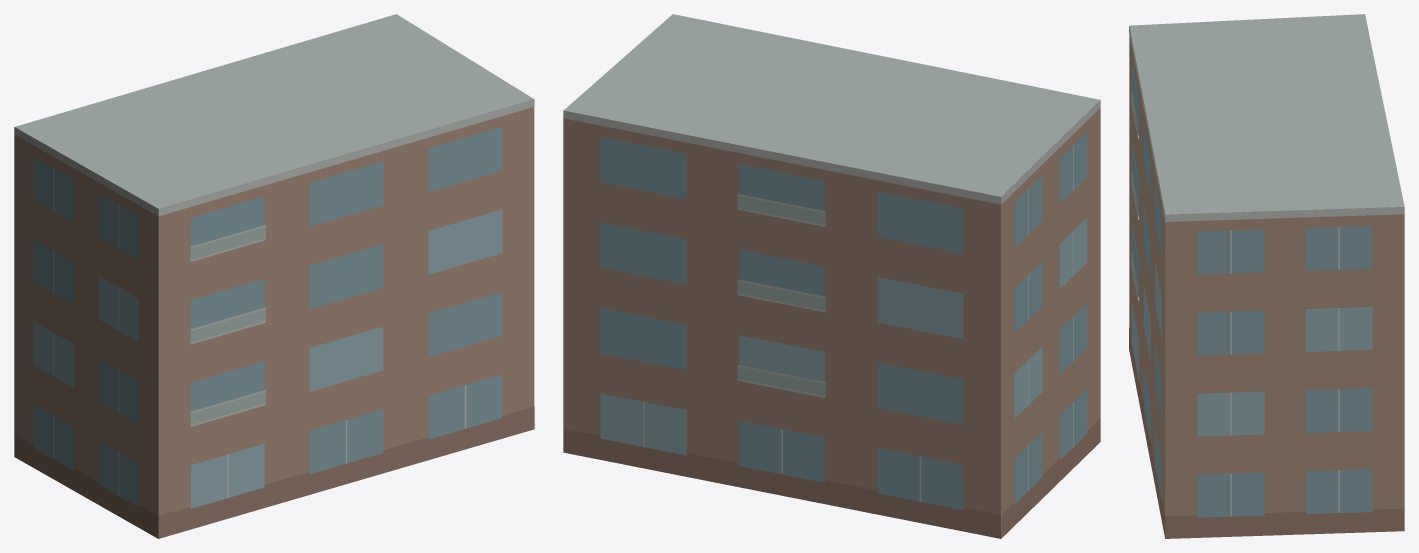
File: survey-upis-32979536.glb
The picture shows the model from 3 angles, left to right: view 1: azimuth 30°, elevation 25°; view 2: azimuth 150°, elevation 25°; view 3: azimuth 270°, elevation 25°; orthographic projection. The views are drawn at different scales.
Visible parts, largest first — view 1: survey-upis-32979536.tmp; view 2: survey-upis-32979536.tmp; view 3: survey-upis-32979536.tmp.
Boxes of the visible parts, x1=… form: survey-upis-32979536.tmp: x1=14, y1=14, x2=534, y2=538; survey-upis-32979536.tmp: x1=563, y1=14, x2=1100, y2=538; survey-upis-32979536.tmp: x1=1129, y1=14, x2=1404, y2=538.
Bounding box in the file's own units: 14.21 × 10.7 × 8.25.
